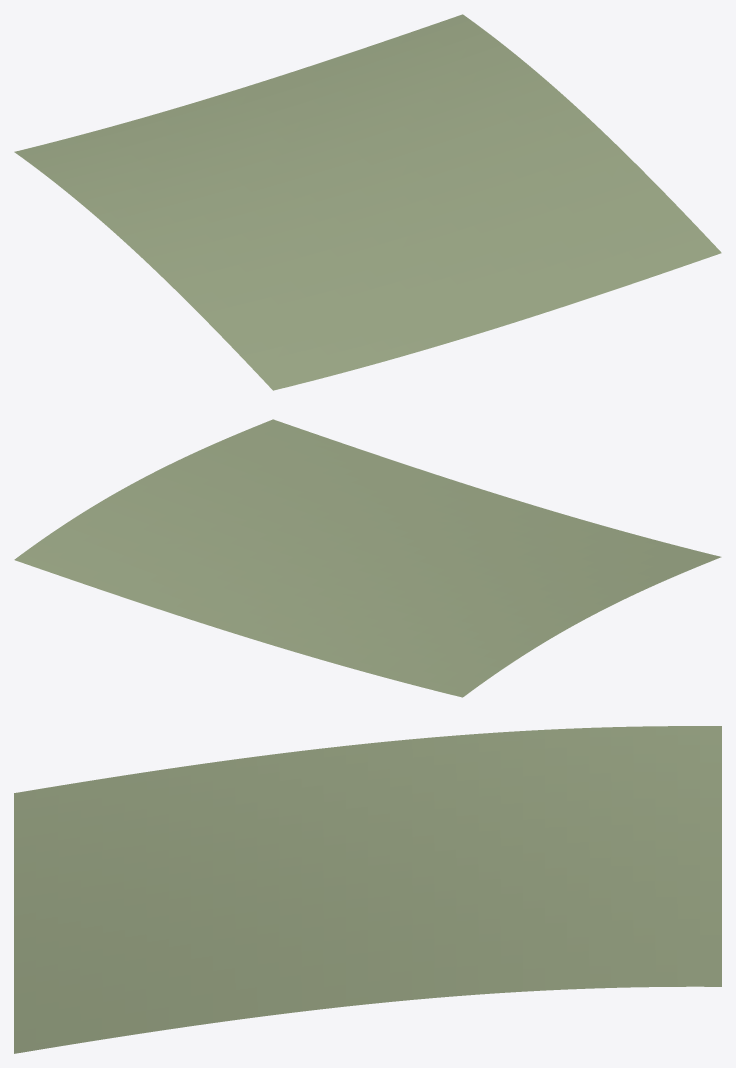
The model's file is valley-0-15.glb.
3 views of the same model, one above another, from view 1: azimuth 30°, elevation 25°; view 2: azimuth 150°, elevation 25°; view 3: azimuth 270°, elevation 25° (orthographic). The views are drawn at different scales.
Parts seen in each view (by area): view 1: valley-0-15; view 2: valley-0-15; view 3: valley-0-15.
Boxes of the visible parts, bbox=[...] form: valley-0-15: bbox=[14, 14, 721, 390]; valley-0-15: bbox=[14, 419, 721, 697]; valley-0-15: bbox=[14, 726, 721, 1053].
Bounding box in the file's own units: 256 × 42.13 × 256.
